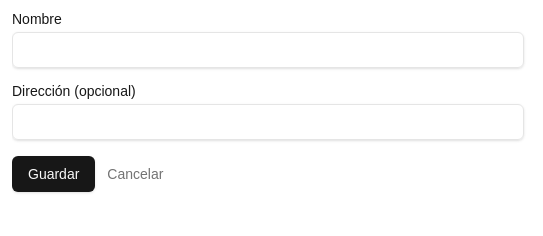
LocationForm › should_attach_an_address_error_to_the_address_input_only
Type "Sucursal Centro" into the field labelled "Nombre" at (268,50), box [12,32,524,68]
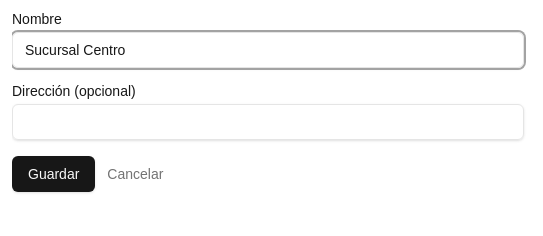
Click the button "Guardar" at (54,174), box [12,156,95,192]
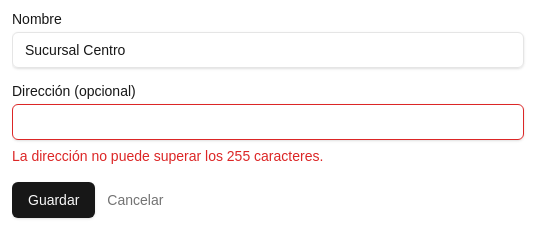
Now the message "La dirección no puede superar los 255 caracteres." is shown, box [12,148,323,164]
